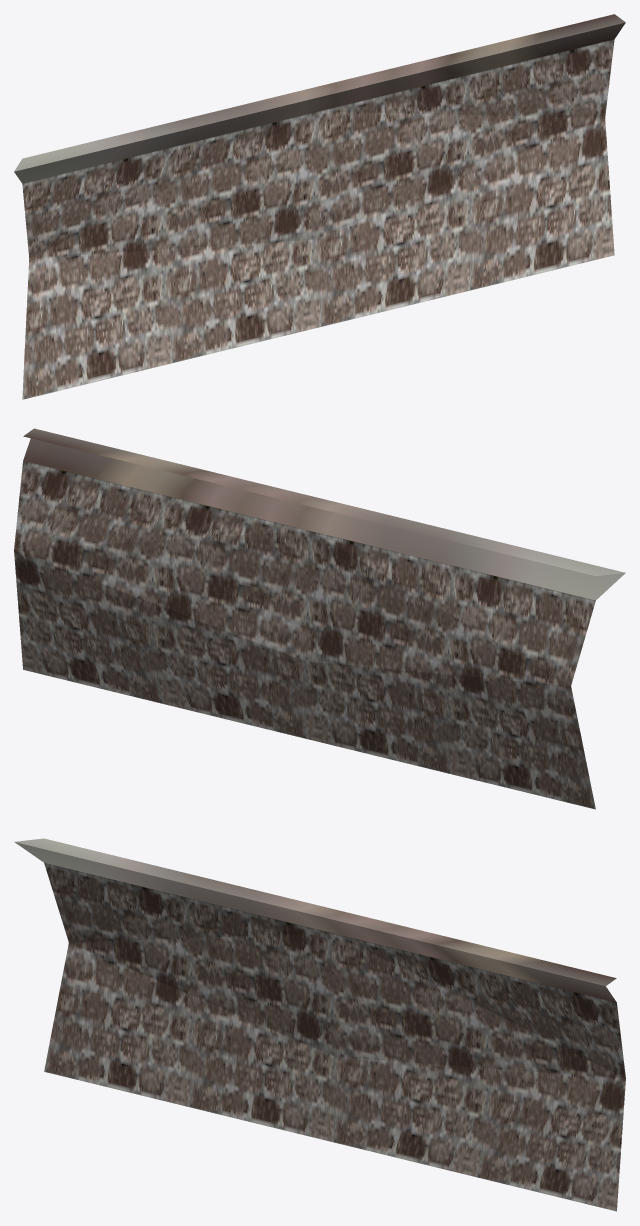
File: W_A2l_xxxx [Steine]_964.glb
3 renders of one model, top to bottom at view 1: azimuth 30°, elevation 25°; view 2: azimuth 150°, elevation 25°; view 3: azimuth 330°, elevation 25°, orthographic. The views are drawn at different scales.
Visible parts, largest first — view 1: polySurfaceShape787, polySurfaceShape1065; view 2: polySurfaceShape787, polySurfaceShape1065; view 3: polySurfaceShape787, polySurfaceShape1065.
Boxes of the visible parts, x1,y1,x2,y2 form: polySurfaceShape787: [22, 39, 614, 399]; polySurfaceShape1065: [14, 14, 625, 183]; polySurfaceShape787: [14, 461, 595, 809]; polySurfaceShape1065: [23, 428, 625, 600]; polySurfaceShape787: [44, 863, 625, 1211]; polySurfaceShape1065: [14, 838, 616, 1002].
Bounding box in the file's own units: 1.03 × 0.3891 × 0.0607.
2 materials, 2 textured.
